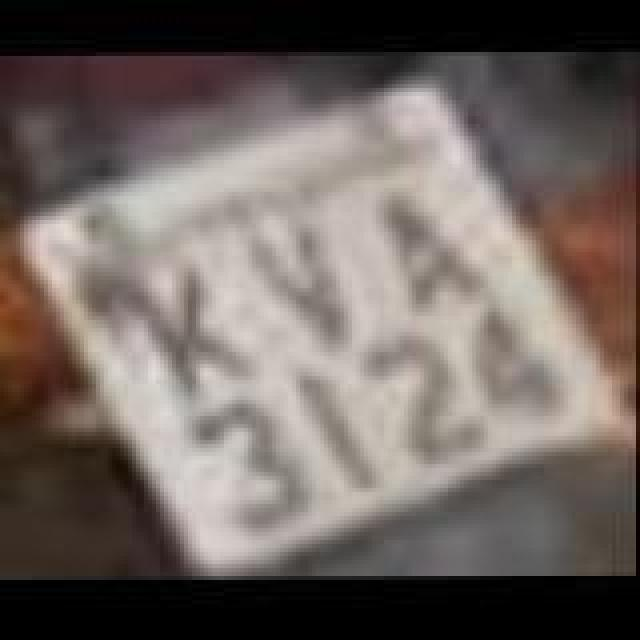1: (298, 368, 378, 492)
2: (374, 334, 486, 470)
3: (186, 398, 306, 534)
4: (472, 302, 564, 426)
A: (388, 188, 488, 320)
K: (118, 256, 254, 412)
V: (246, 210, 366, 362)
